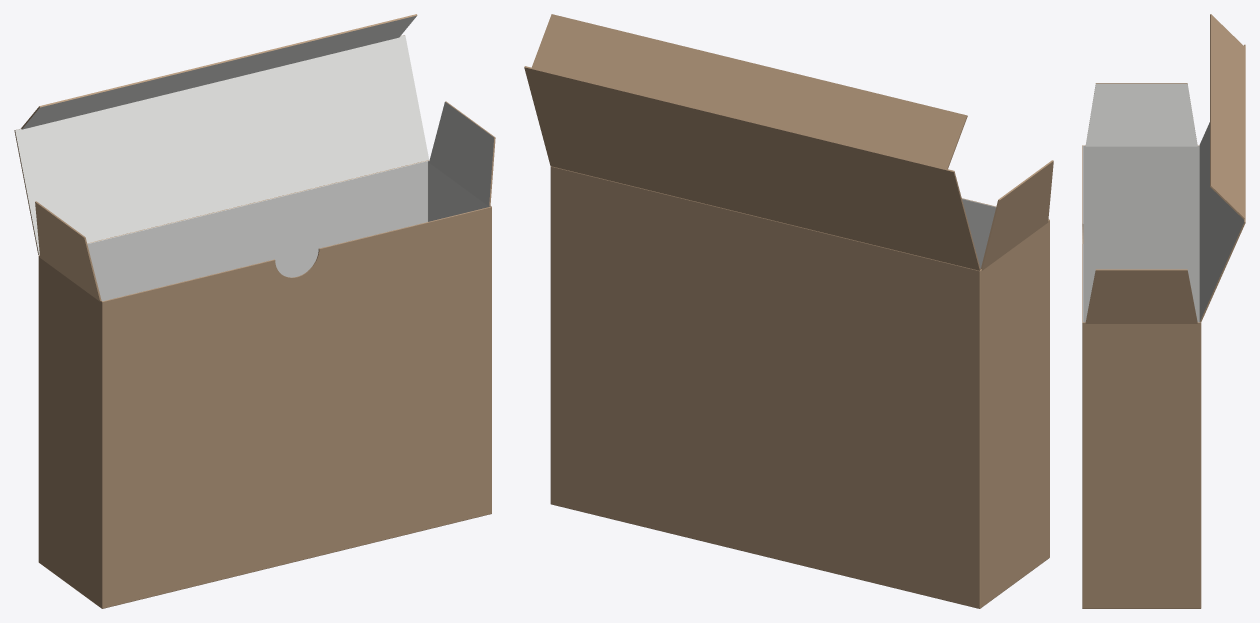
The model's file is combo-preroll-oil-open.glb.
The picture shows the model from 3 angles, left to right: view 1: azimuth 30°, elevation 25°; view 2: azimuth 150°, elevation 25°; view 3: azimuth 270°, elevation 25°; orthographic projection. The views are drawn at different scales.
Visible parts, largest first — view 1: obox_body, obox_lid, obox_tuck, obox_dustp1, obox_dustp-1; view 2: obox_body, obox_lid, obox_tuck, obox_dustp-1; view 3: obox_body, obox_dustp-1, obox_tuck, obox_dustp1, obox_lid.
Part boxes in pixels (<box>): obox_body: <box>38,160,491,608</box>; obox_lid: <box>14,35,429,254</box>; obox_tuck: <box>21,14,417,129</box>; obox_dustp1: <box>429,101,495,206</box>; obox_dustp-1: <box>35,201,101,301</box>; obox_body: <box>550,166,1049,608</box>; obox_lid: <box>524,66,980,270</box>; obox_tuck: <box>531,14,967,170</box>; obox_dustp-1: <box>980,160,1053,270</box>; obox_body: <box>1082,145,1201,608</box>; obox_dustp-1: <box>1085,83,1197,146</box>; obox_tuck: <box>1210,14,1245,219</box>; obox_dustp1: <box>1085,269,1197,323</box>; obox_lid: <box>1199,44,1245,322</box>.
Bounding box in the file's own units: 0.1302 × 0.1364 × 0.0481.
